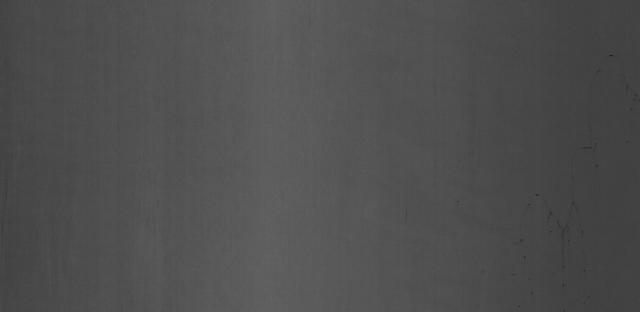inclusion: (602, 43, 638, 122), (546, 202, 585, 259), (573, 143, 602, 154), (528, 188, 543, 199), (516, 233, 529, 244), (520, 251, 529, 262)
